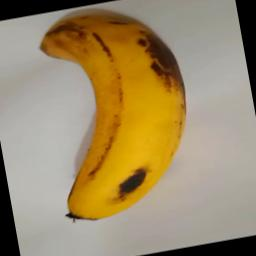Banana Unripe: (31, 0, 208, 229)
